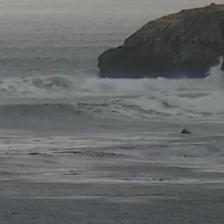surfer: (182, 128, 192, 134)
